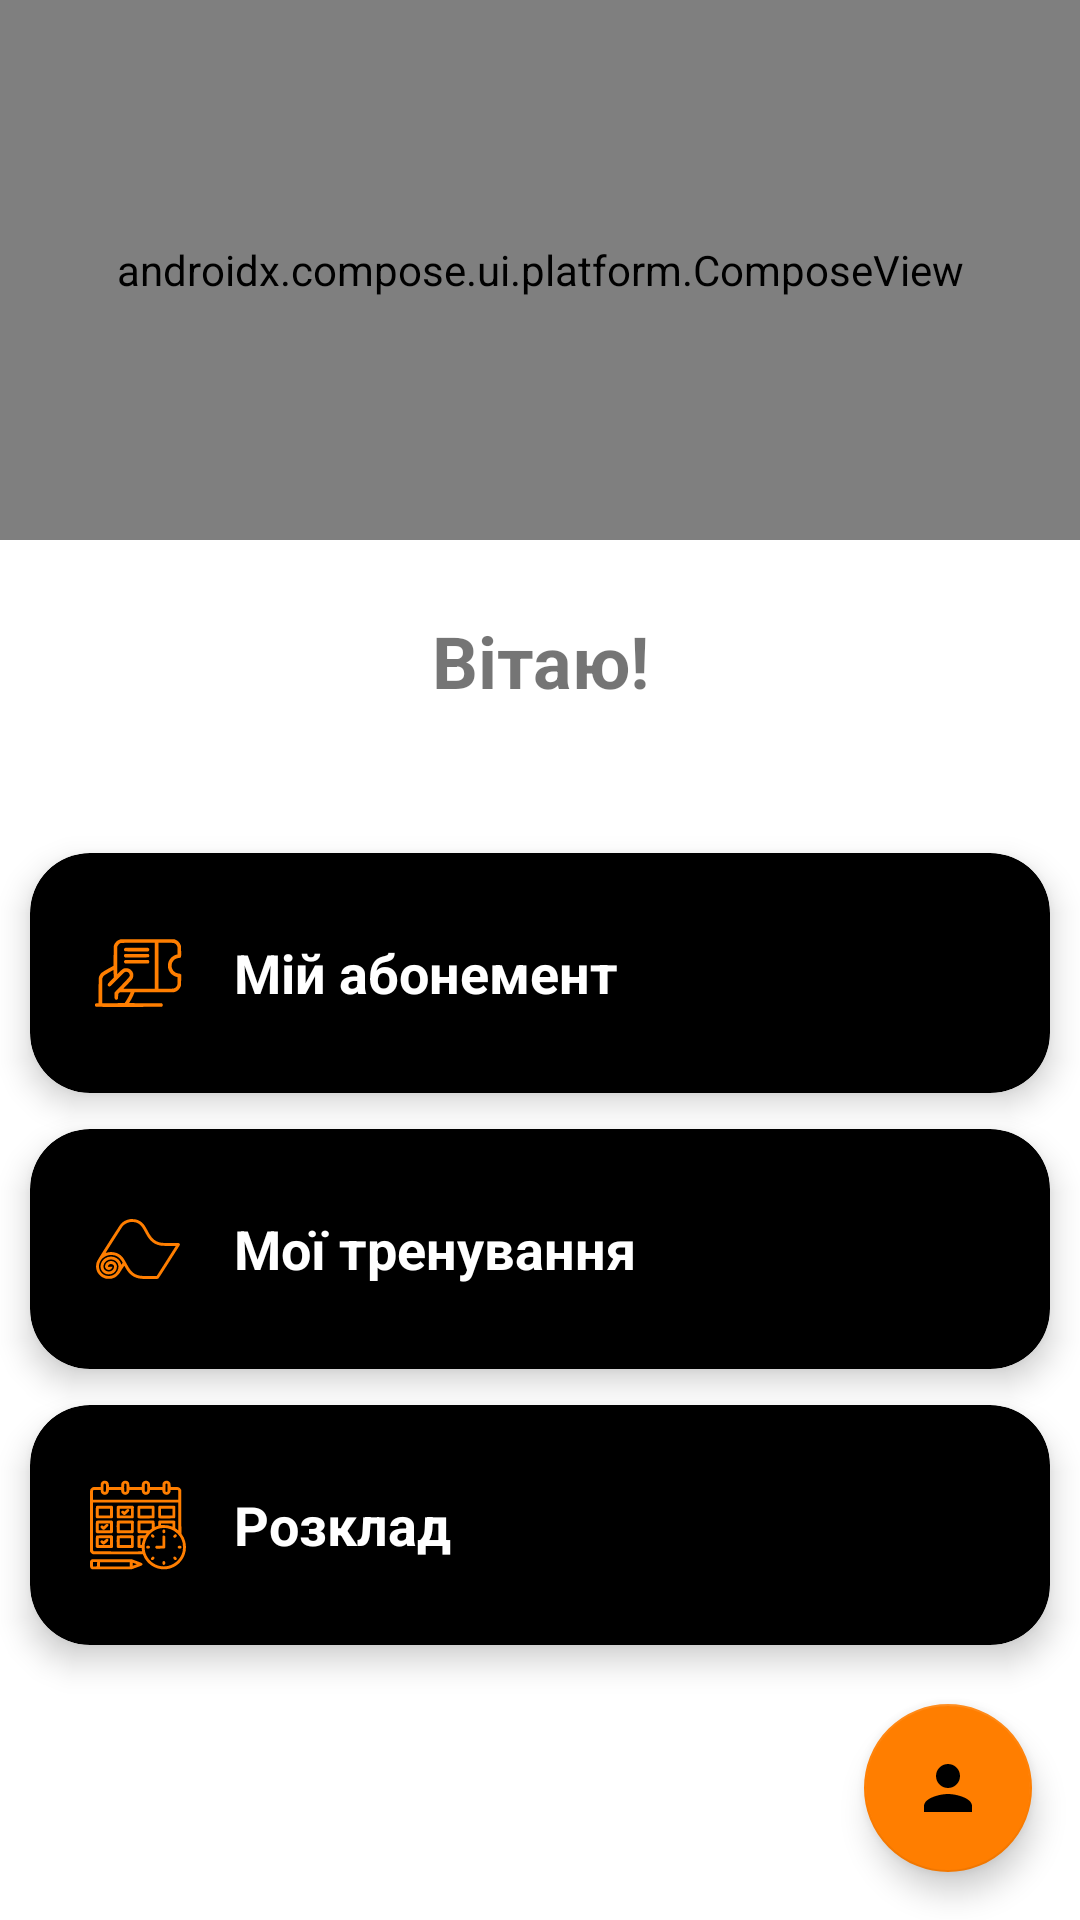

Named icons in this screenshot (1080×1920) and their centers, (x,y):
membership: (138,973)
schedule: (138,1525)
trainings: (138,1249)
Профіль: (948,1788)
